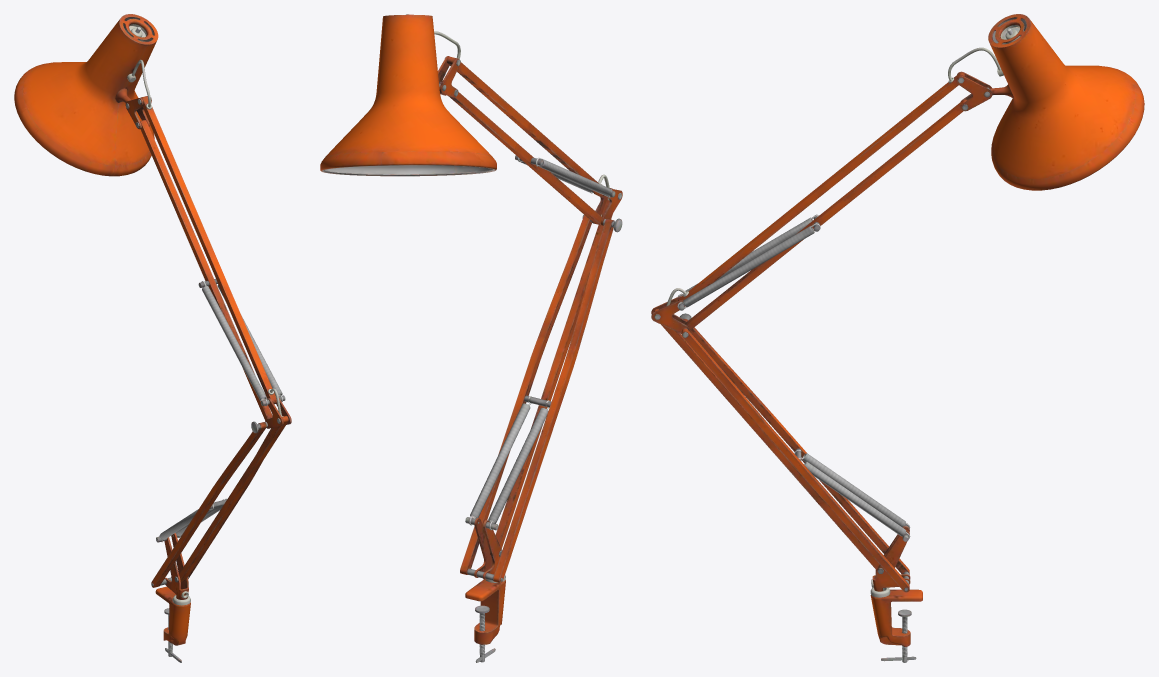
The model's file is desk_lamp_arm_01.glb.
3 renders of one model, left to right at view 1: azimuth 30°, elevation 25°; view 2: azimuth 150°, elevation 25°; view 3: azimuth 270°, elevation 25°, orthographic. The views are drawn at different scales.
Parts seen in each view (by area): view 1: desk_lamp_arm_01; view 2: desk_lamp_arm_01; view 3: desk_lamp_arm_01.
Boxes of the visible parts, <box> form: desk_lamp_arm_01: <box>14,14,291,662</box>; desk_lamp_arm_01: <box>320,14,622,662</box>; desk_lamp_arm_01: <box>651,14,1144,662</box>.
Size of the model in its own units: 0.2017 by 0.8926 by 0.6139.
2 materials, 2 textured.
